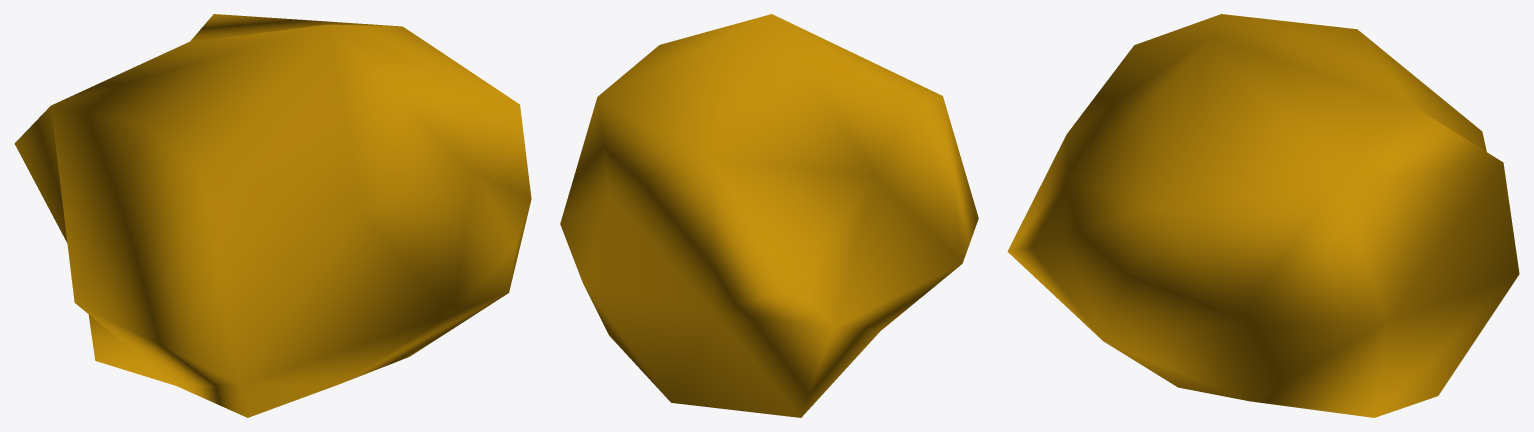
The model's file is Rock_01.fbx.
3 views of the same model, side by side, from view 1: azimuth 30°, elevation 25°; view 2: azimuth 150°, elevation 25°; view 3: azimuth 270°, elevation 25° (orthographic). The views are drawn at different scales.
Visible parts, largest first — view 1: pCube1_displacement1; view 2: pCube1_displacement1; view 3: pCube1_displacement1.
Boxes of the visible parts, x1,y1,x2,y2 form: pCube1_displacement1: (14, 14, 531, 417); pCube1_displacement1: (560, 14, 978, 417); pCube1_displacement1: (1007, 14, 1519, 417).
Size of the model in its own units: 11.46 by 9.64 by 12.43.
